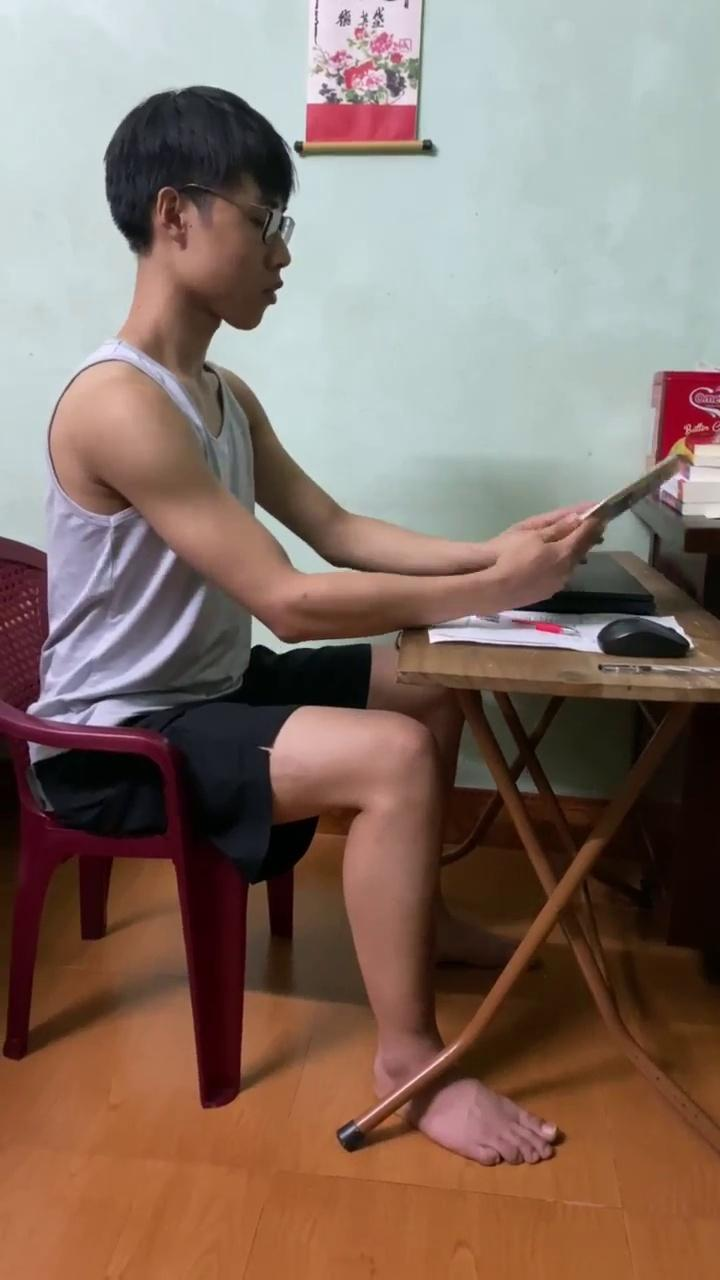GoodPosture: (41, 87, 600, 1094)
